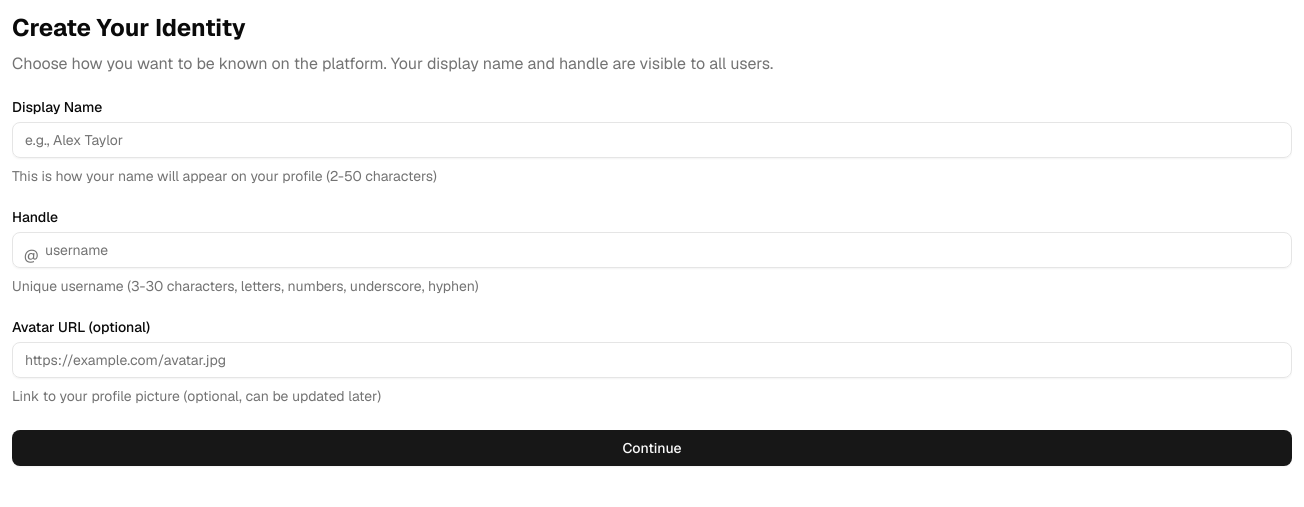
Test: IdentityStep › should show error when handle is unavailable
This screenshot has width=1304, height=507.
Type "taken_handle" into the field with placeholder "username". click: [652, 250]
box: [12,232,1292,268]
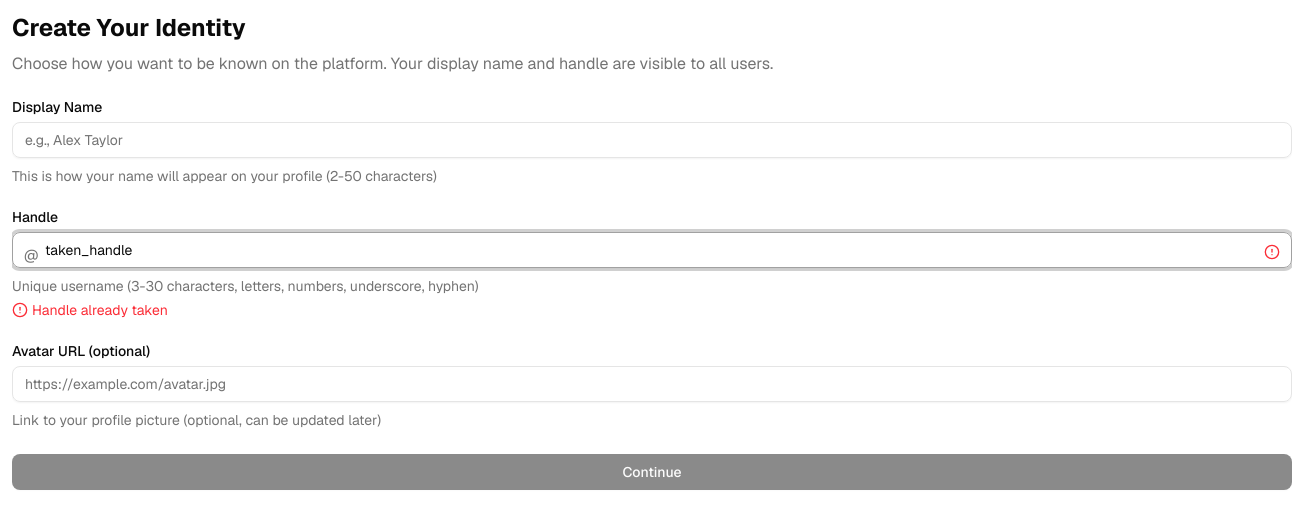
Check: the text "Handle already taken" is shown, box [12,301,168,319]
Check: the button "Continue" is disabled, box [12,454,1292,490]
